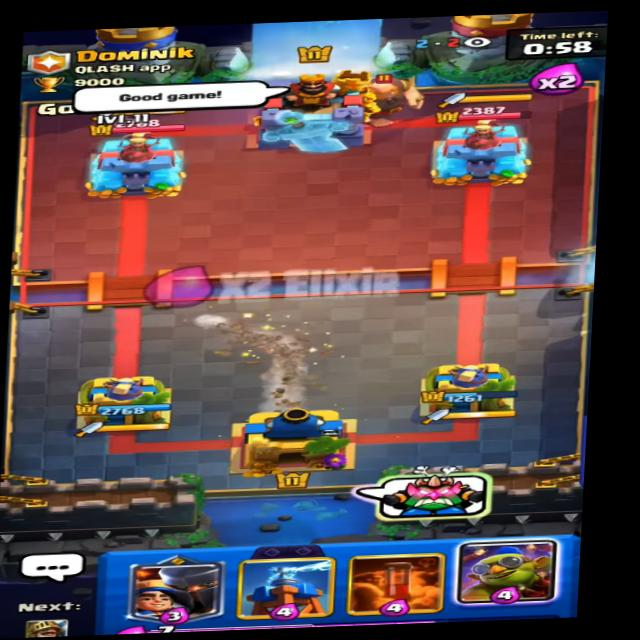giant: (330, 68, 436, 136)
